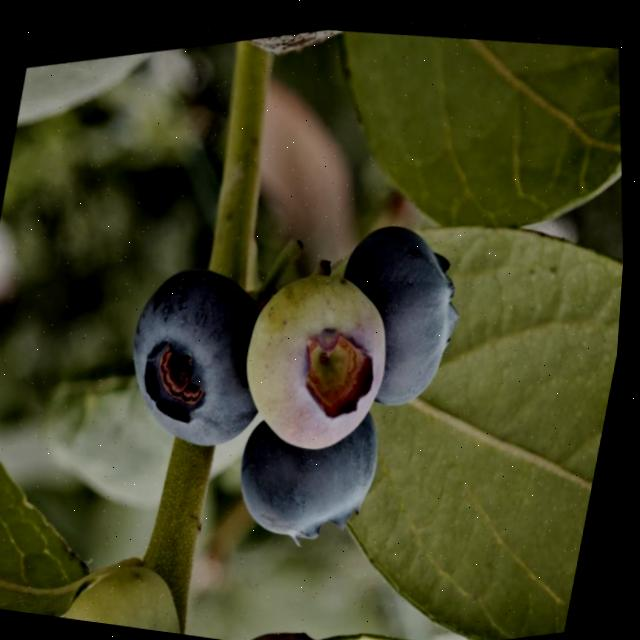RipeBlueBerry: (100, 233, 296, 468), (319, 195, 492, 423), (219, 384, 408, 560)
UnripeBlueBerry: (212, 232, 427, 475), (49, 526, 214, 634)
